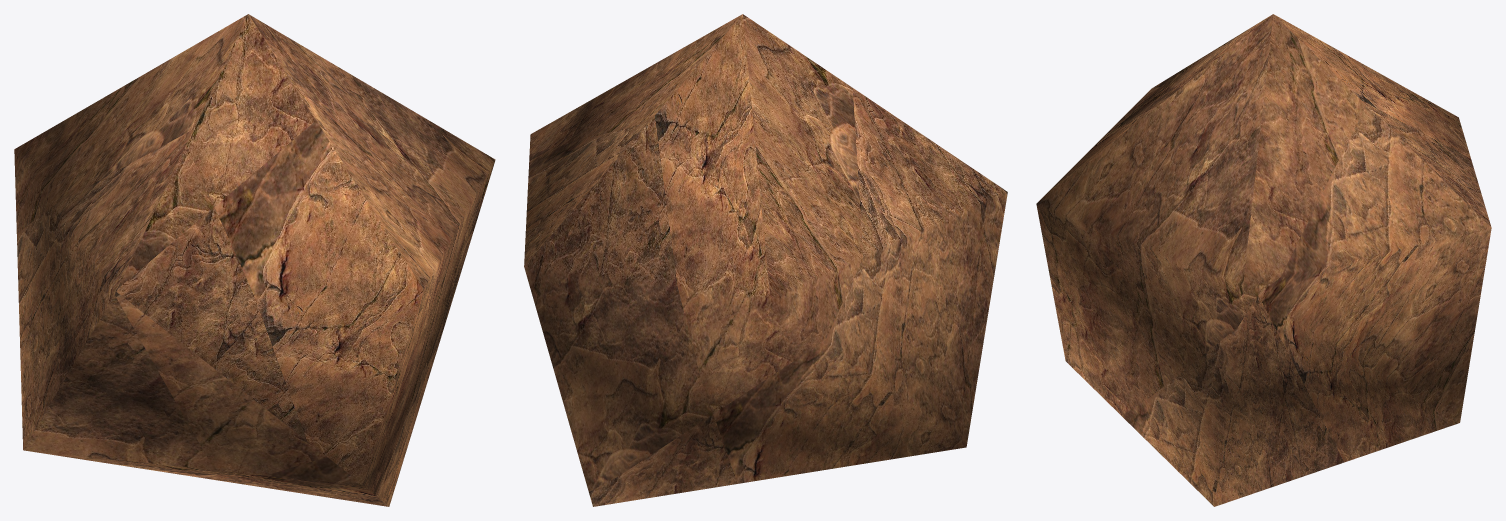
File: LR Rock .obj
The picture shows the model from 3 angles, left to right: view 1: azimuth 30°, elevation 25°; view 2: azimuth 150°, elevation 25°; view 3: azimuth 270°, elevation 25°; orthographic projection. The views are drawn at different scales.
Parts seen in each view (by area): view 1: Icosphere; view 2: Icosphere; view 3: Icosphere.
Boxes of the visible parts, x1,y1,x2,y2 form: Icosphere: [14, 14, 495, 506]; Icosphere: [524, 14, 1007, 506]; Icosphere: [1036, 14, 1491, 506].
Bounding box in the file's own units: 2.03 × 2.11 × 1.96.
Materials: 1 (1 with a texture image).
